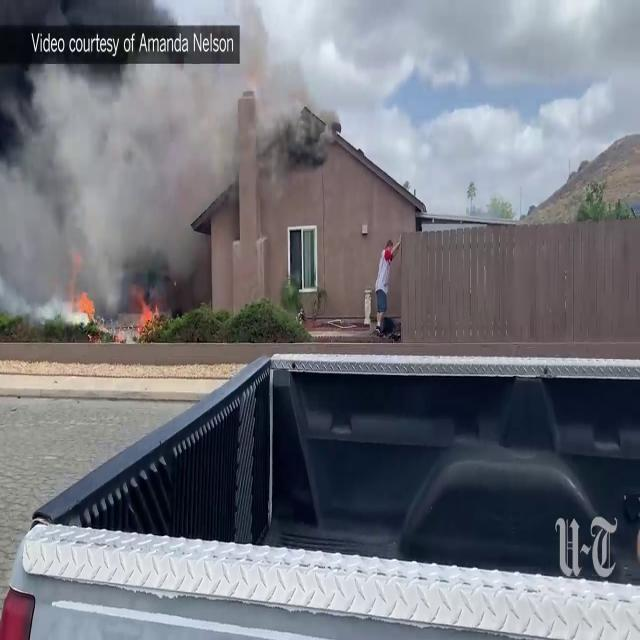Fire: (72, 288, 101, 340)
Smoke: (0, 0, 297, 320)
